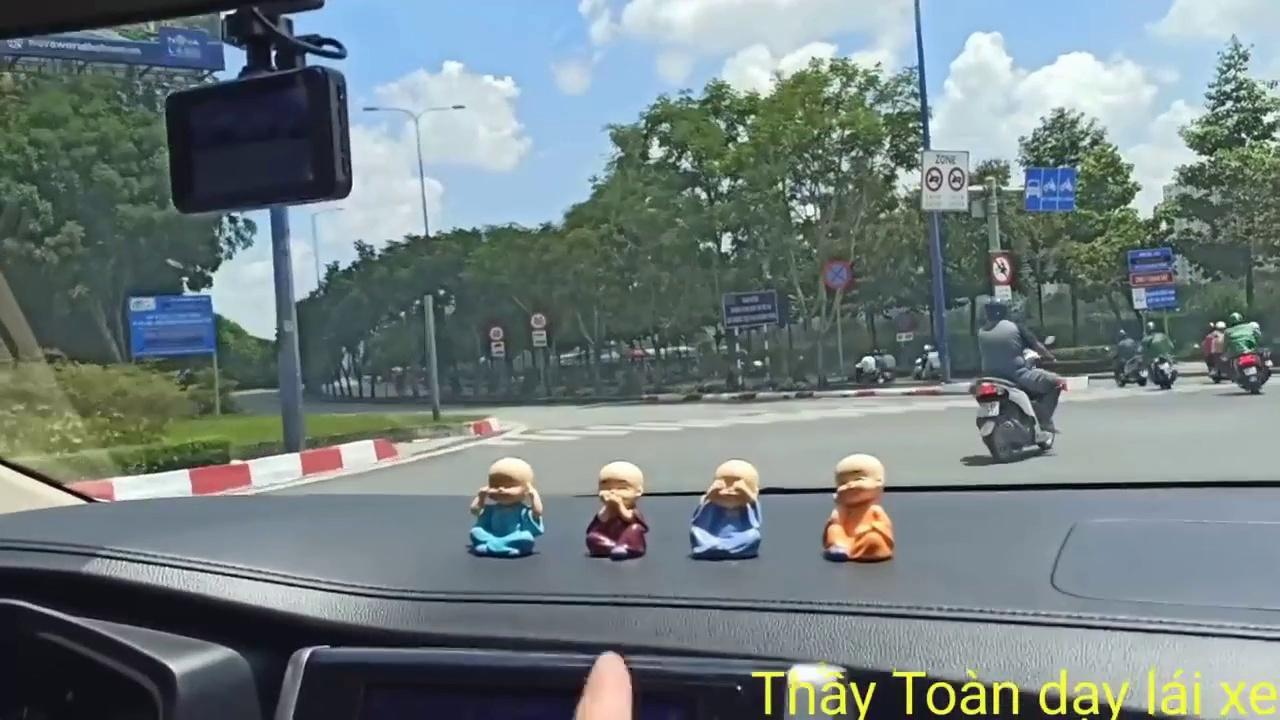Biển phụ: (488, 341, 509, 357), (532, 331, 548, 347)
Cấm cac phương tiện hoạt động trong khung giờ cố định: (920, 148, 969, 213)
Cấm dừng - Cấm đỗ: (820, 256, 851, 290)
Cấm xe máy: (988, 249, 1014, 286)
GIơi hạn tốc độ 60Km/h: (490, 324, 504, 341)
Giới hạn tốc độ 80Km/h: (530, 310, 548, 329)
Khác: (126, 292, 215, 356), (1127, 247, 1179, 311)
Làn đường cho từng xe: (1024, 165, 1076, 215)
